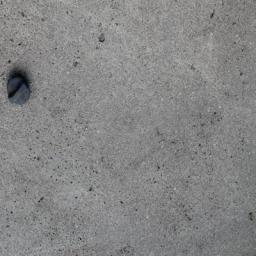FOD: (4, 72, 36, 108)
